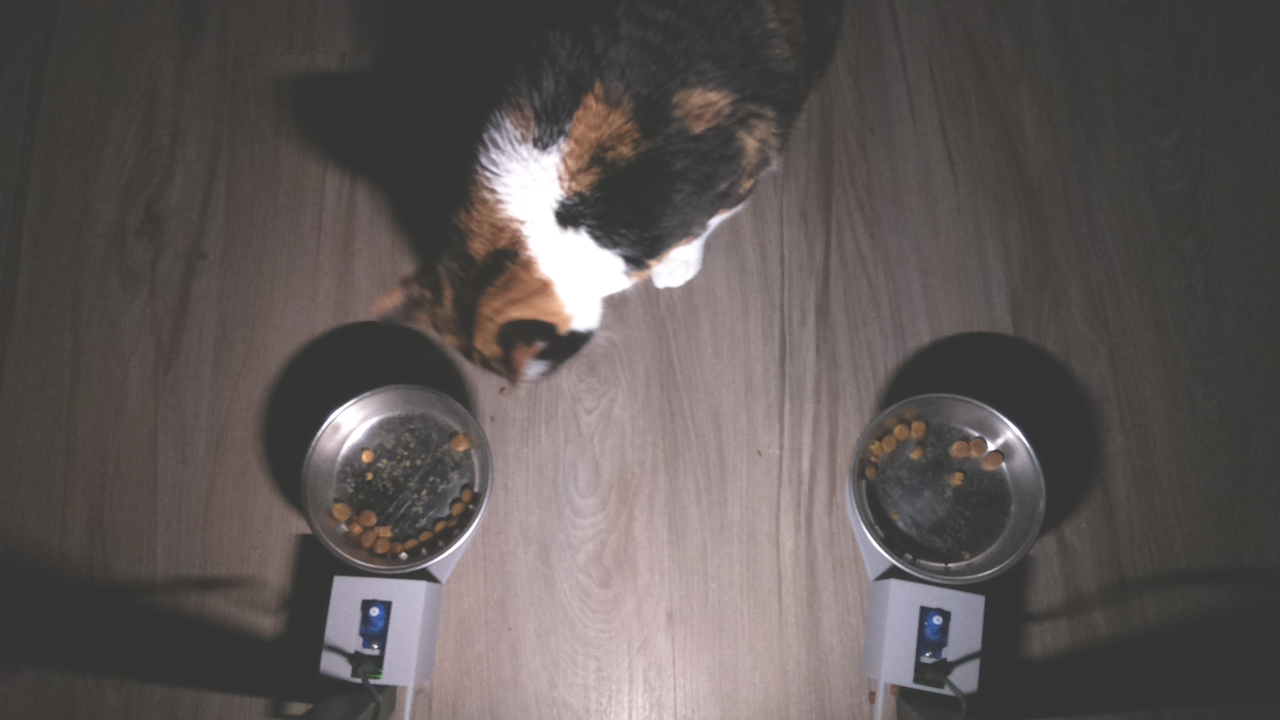bella: (362, 177, 634, 386)
open_bowl: (285, 377, 507, 580), (844, 383, 1058, 591)
